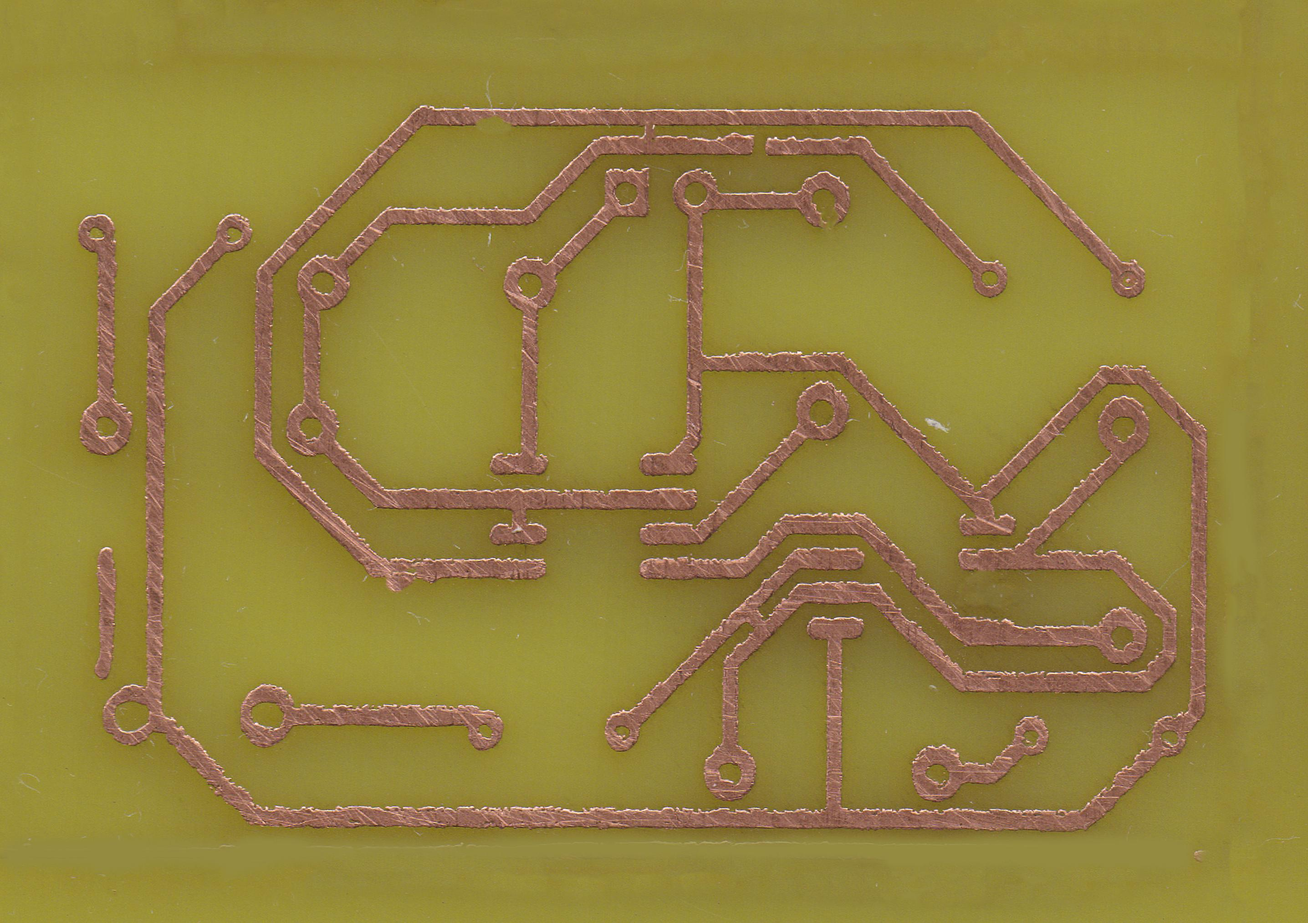mouse_bite: (467, 104, 520, 133)
open_circuit: (740, 133, 777, 156)
short: (734, 592, 777, 639), (634, 105, 670, 152)
spur: (378, 556, 419, 596)
spurious_copper: (97, 539, 115, 685)
